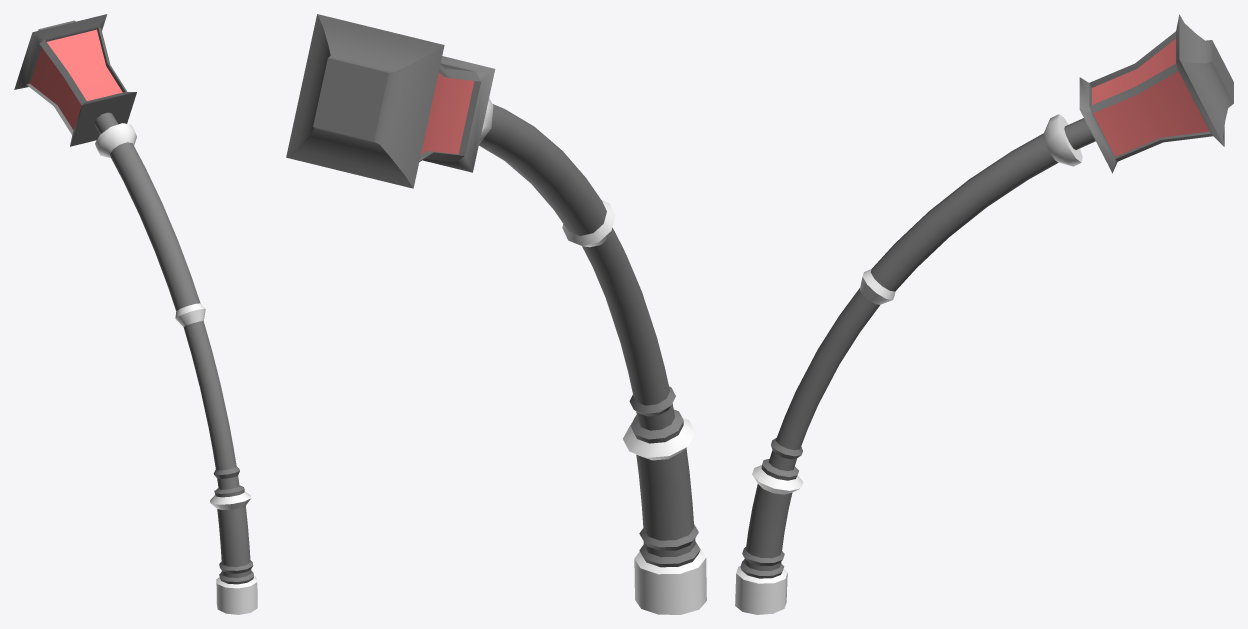
Rendered from floorlamp.fbx.
3 views of the same model, side by side, from view 1: azimuth 30°, elevation 25°; view 2: azimuth 150°, elevation 25°; view 3: azimuth 270°, elevation 25° (orthographic). The views are drawn at different scales.
Visible parts, largest first — view 1: Cylinder001, Box001; view 2: Cylinder001, Box001; view 3: Cylinder001, Box001.
Part boxes in pixels (x1,y1,x2,y2): Cylinder001: [94, 112, 257, 614]; Box001: [14, 14, 136, 146]; Cylinder001: [479, 98, 706, 614]; Box001: [286, 14, 495, 188]; Cylinder001: [735, 114, 1095, 614]; Box001: [1079, 14, 1233, 173].
Size of the model in its own units: 38.29 by 224 by 178.
